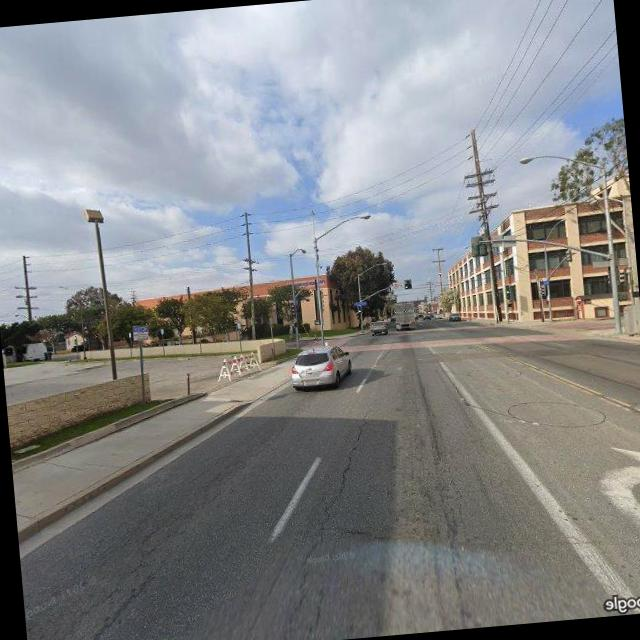pothole: (308, 405, 384, 533)
